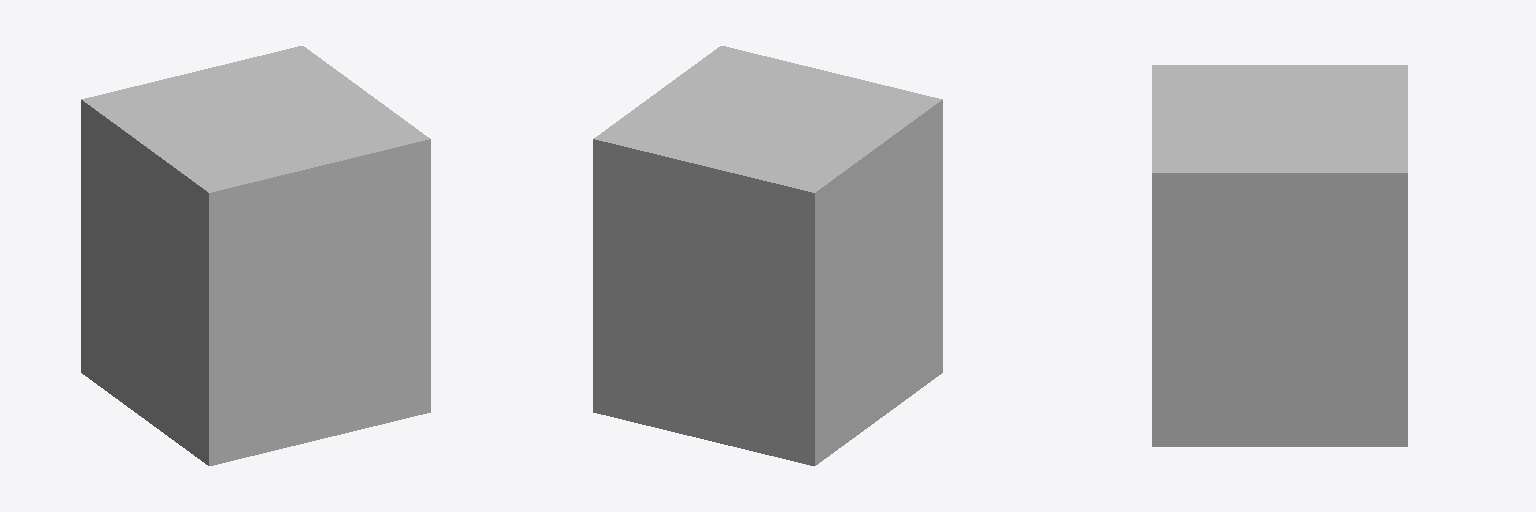
The model's file is Vitrine.obj.
3 views of the same model, side by side, from view 1: azimuth 30°, elevation 25°; view 2: azimuth 150°, elevation 25°; view 3: azimuth 270°, elevation 25° (orthographic).
Size of the model in its own units: 2 by 2.36 by 2.